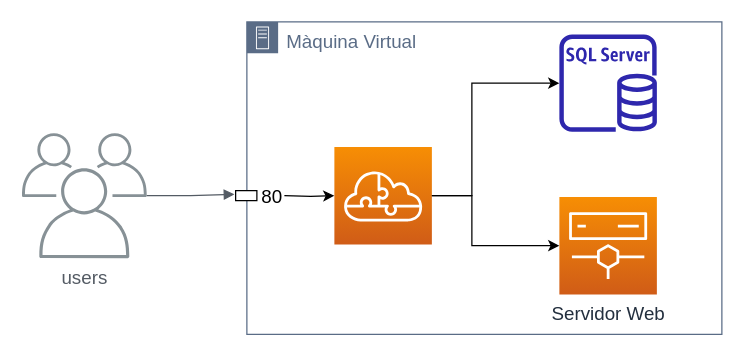
The diagram is 744 pixels wide and 356 high, and some of its shapes have lost their labels. Here are the shapes that lost their labels. From the top down, the centre of each, then its label:
(x=607, y=82): Servidor Base de Dades
(x=382, y=195): Wordpress
